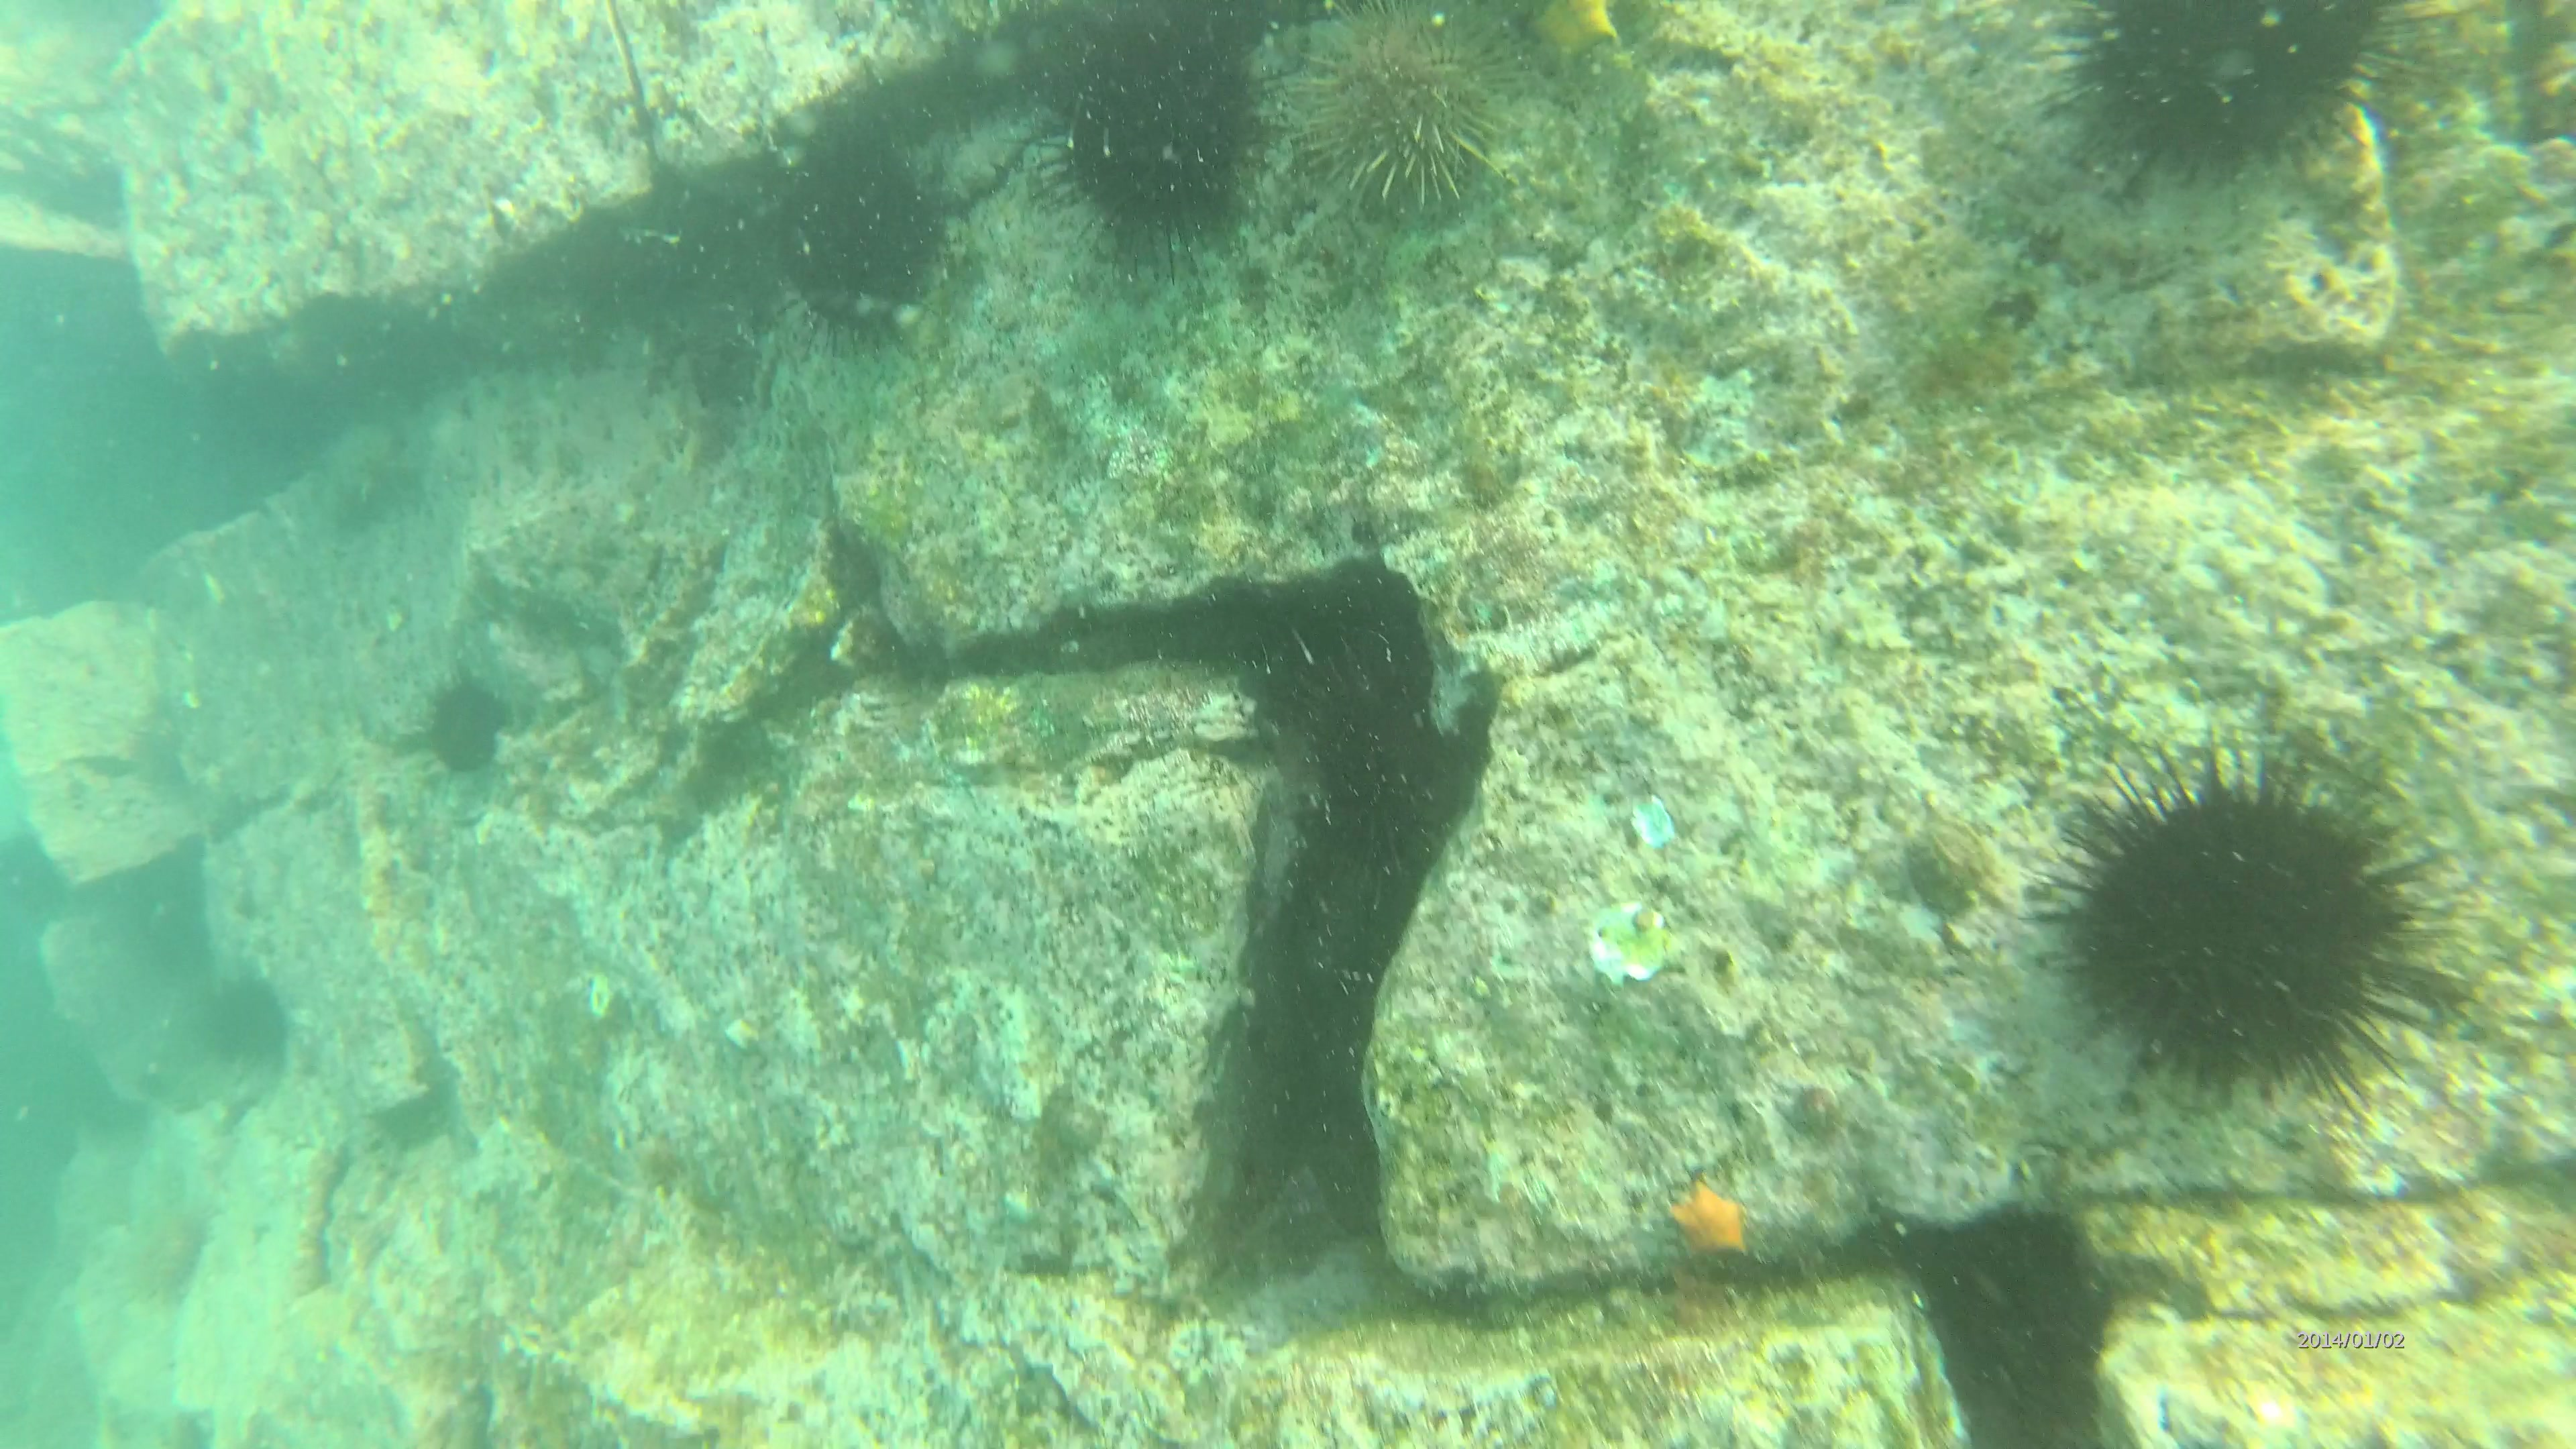echinus: (2035, 736, 2426, 1116), (2063, 0, 2445, 196), (1024, 16, 1265, 271), (1235, 649, 1463, 878), (725, 131, 964, 349), (1293, 0, 1520, 228), (425, 685, 511, 780), (203, 985, 283, 1054)
starfish: (1658, 1175, 1760, 1265)
